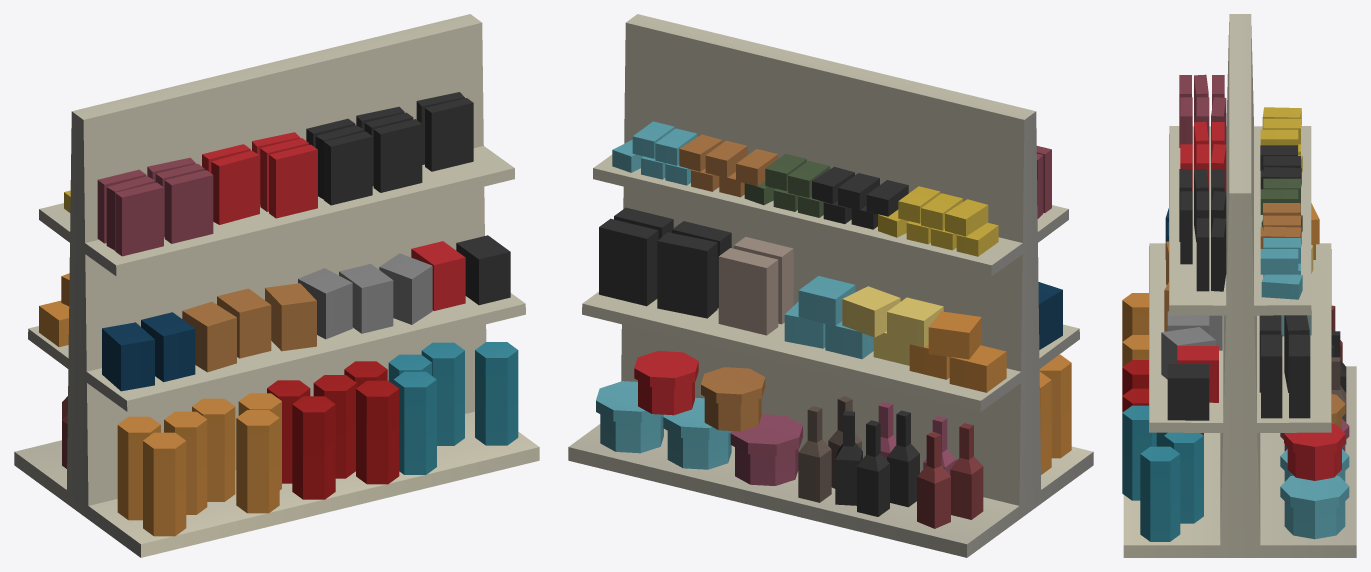
Rendered from B03_etale_03.fbx.
3 renders of one model, left to right at view 1: azimuth 30°, elevation 25°; view 2: azimuth 150°, elevation 25°; view 3: azimuth 270°, elevation 25°, orthographic. The views are drawn at different scales.
Parts seen in each view (by area): view 1: B03_etale_03; view 2: B03_etale_03; view 3: B03_etale_03.
Boxes of the visible parts, <box> form: B03_etale_03: <box>14,14,539,557</box>; B03_etale_03: <box>568,14,1093,557</box>; B03_etale_03: <box>1122,14,1356,557</box>.
Size of the model in its own units: 309 by 293 by 171.
